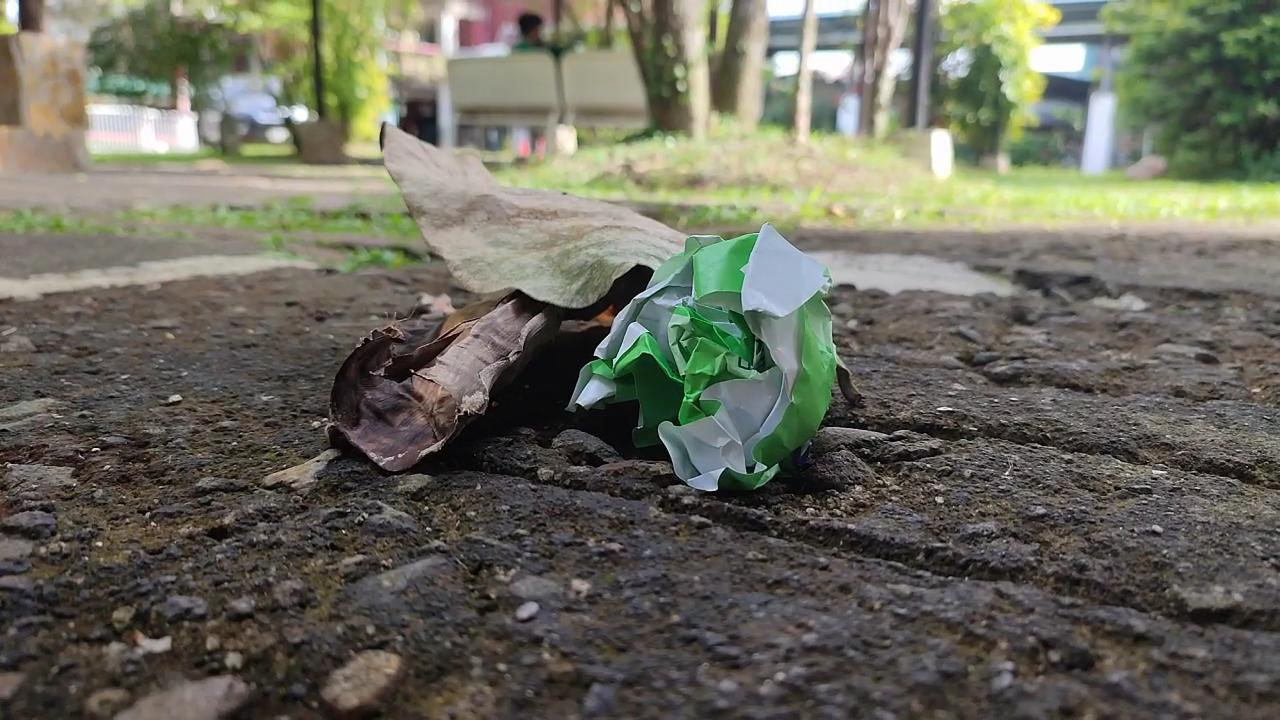Paper: (543, 207, 854, 514)
